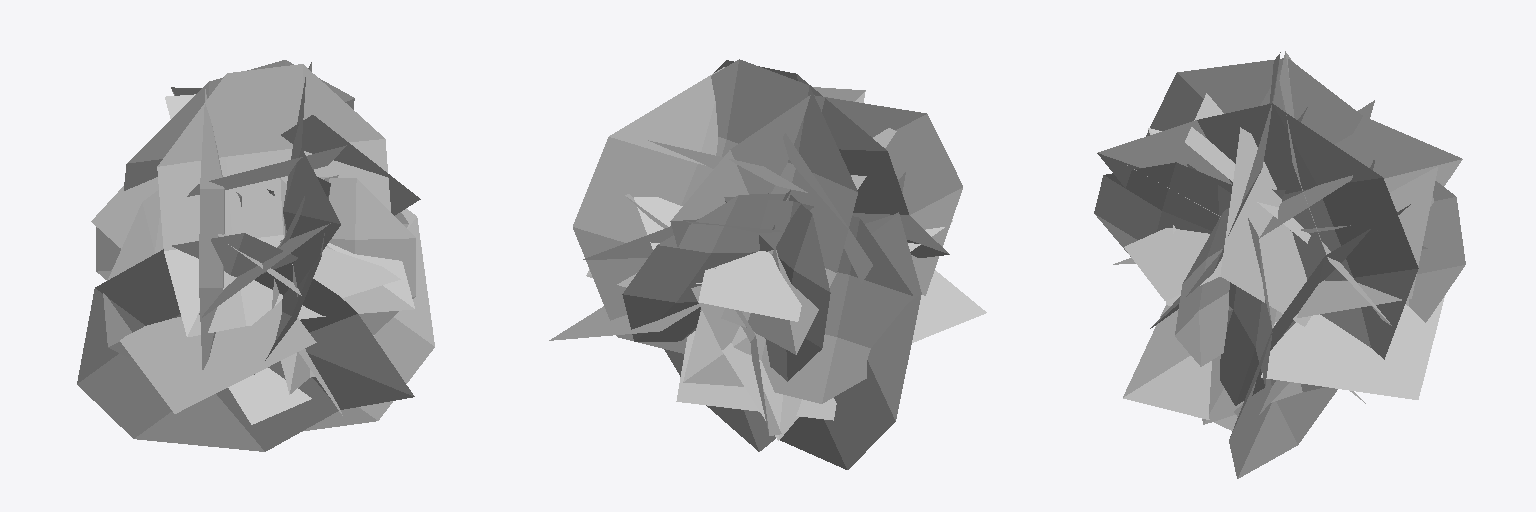
The model's file is TreeHojas-902.obj.
The picture shows the model from 3 angles: view 1: azimuth 30°, elevation 25°; view 2: azimuth 150°, elevation 25°; view 3: azimuth 270°, elevation 25°; orthographic projection.
Parts seen in each view (by area): view 1: Tree2, Tree; view 2: Tree2, Tree; view 3: Tree, Tree2.
Part boxes in pixels (bbox=[...]): Tree2: bbox=[77, 62, 414, 451]; Tree: bbox=[103, 60, 434, 431]; Tree2: bbox=[573, 60, 986, 469]; Tree: bbox=[549, 59, 962, 451]; Tree: bbox=[1094, 51, 1462, 478]; Tree2: bbox=[1097, 52, 1465, 430].
Size of the model in its own units: 4.61 by 5.3 by 4.71.